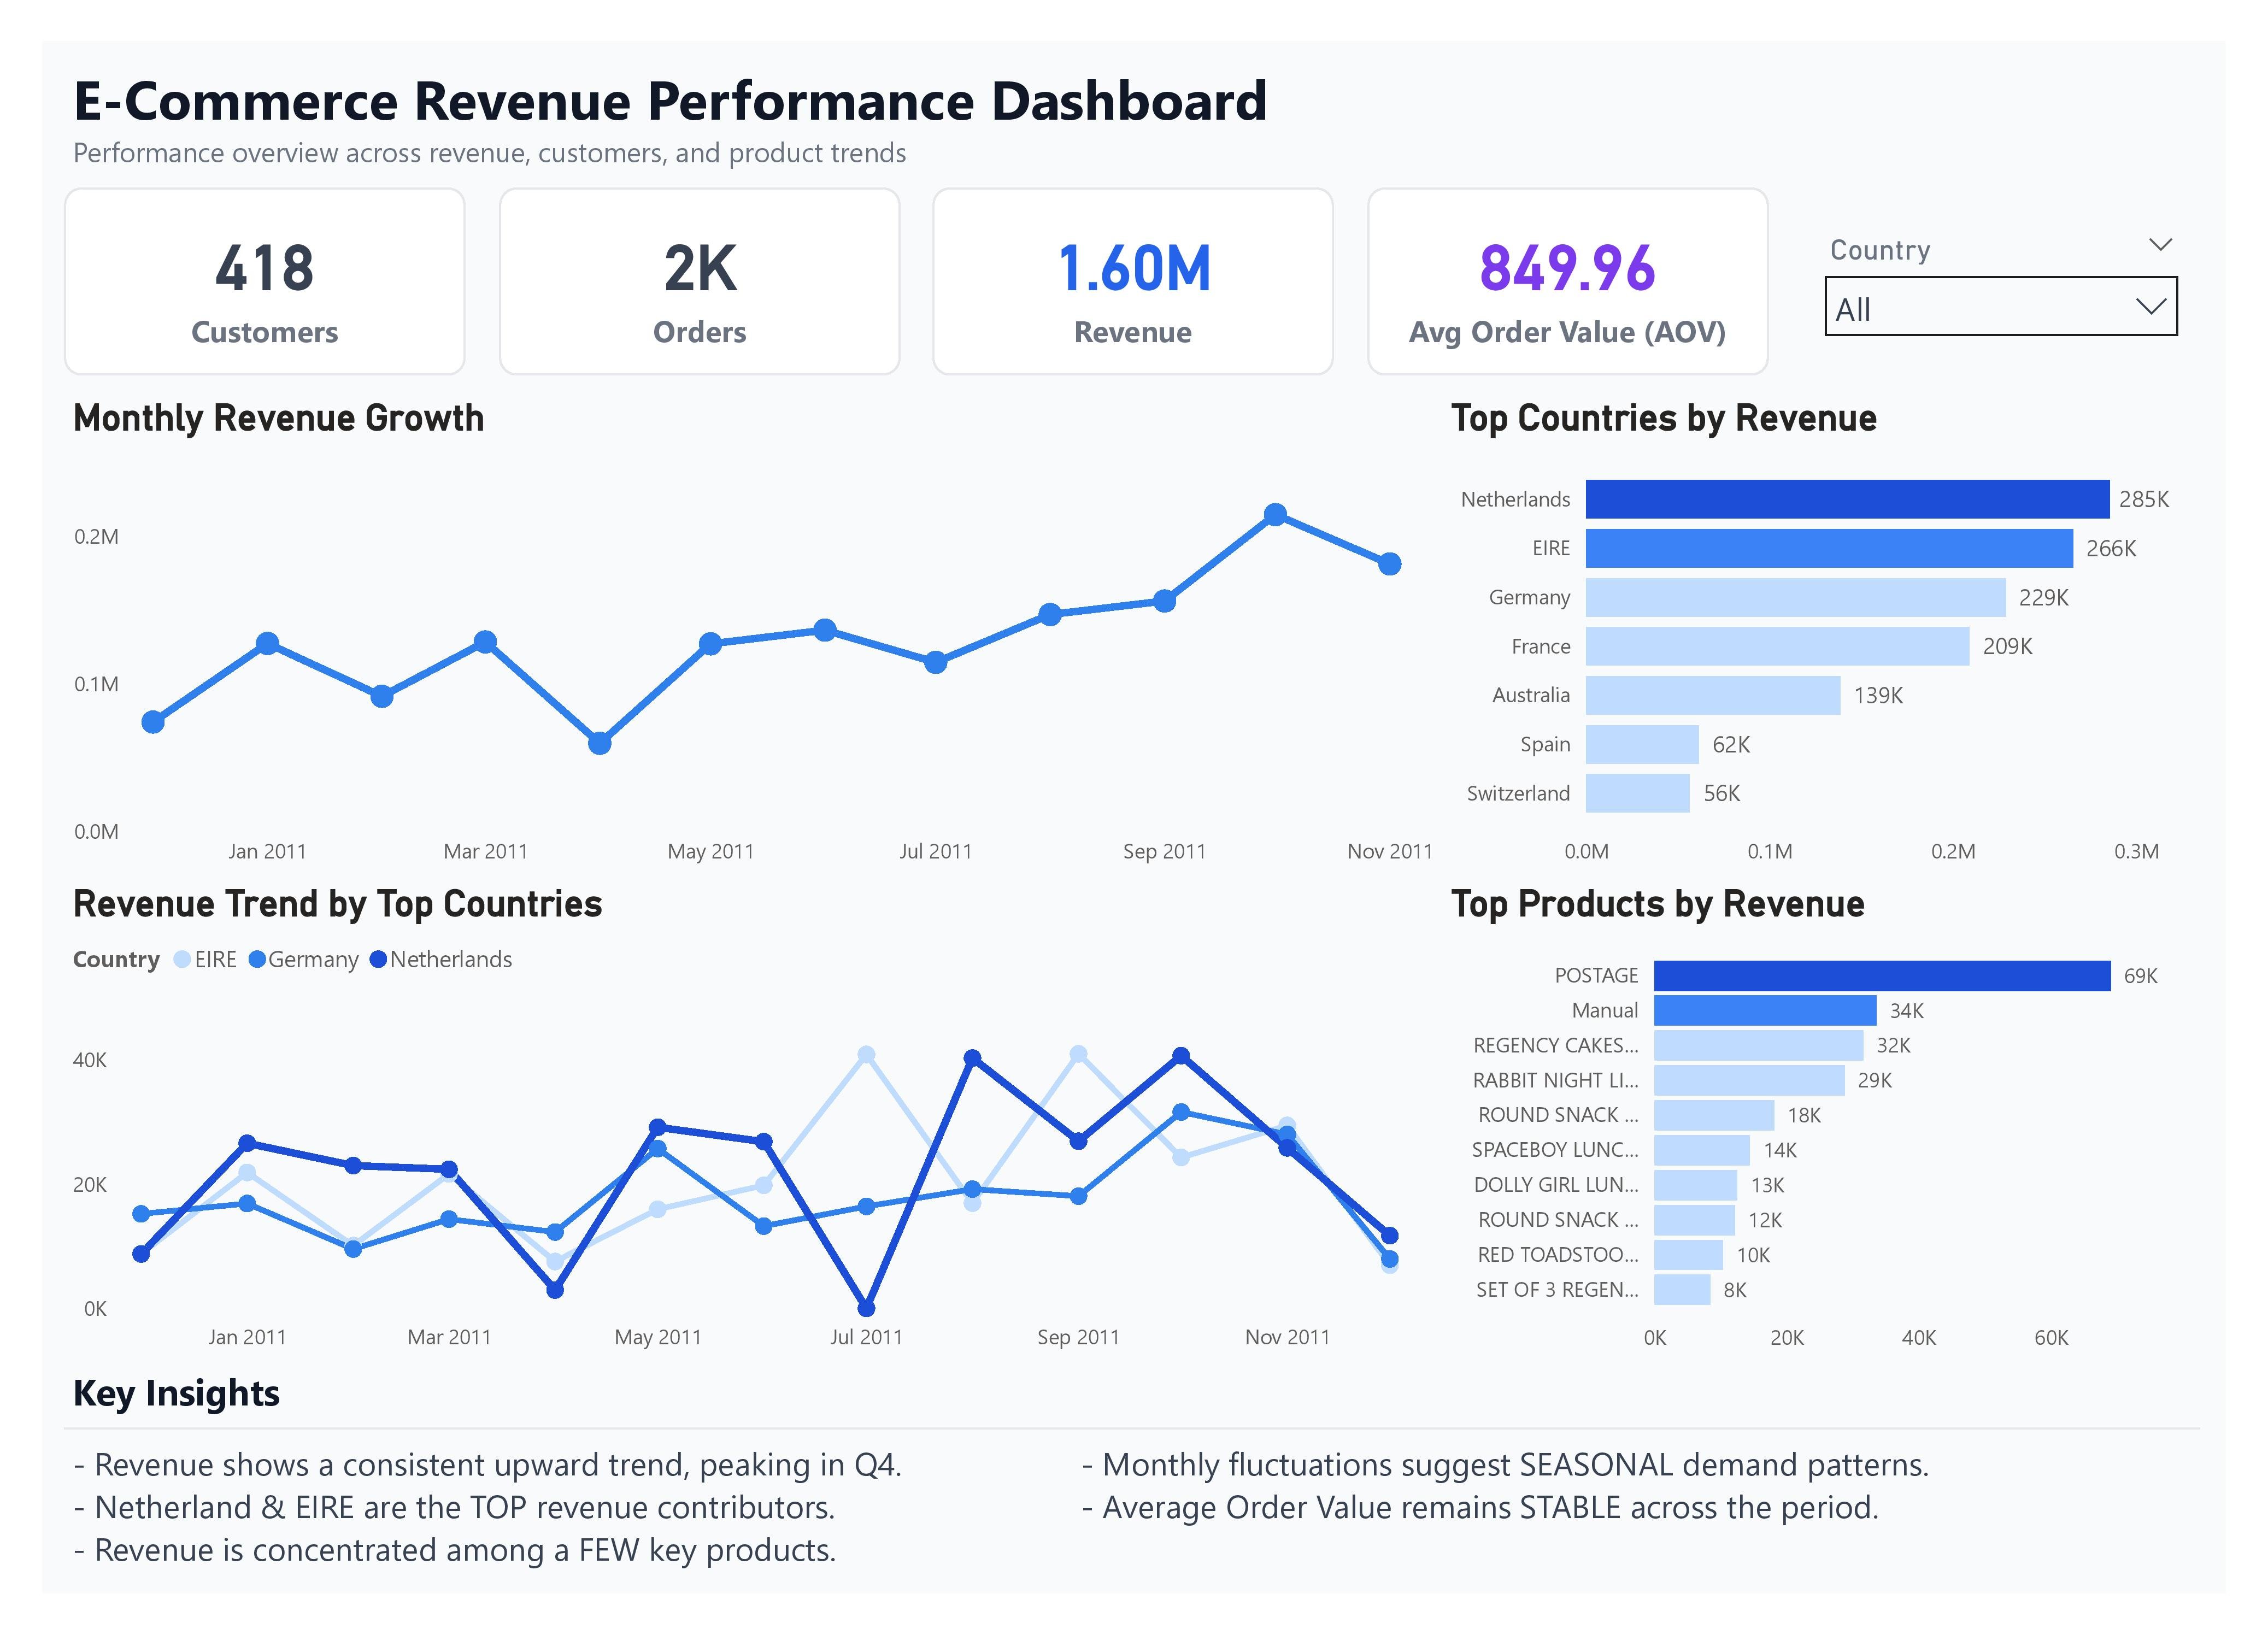

The page's visual inventory and layout, read from the dashboard file:
{"tool":"powerbi","page":{"name":"Page 1","canvas":[1280,910],"ordinal":0},"visuals":[{"type":"group","id":"g1","title":"Group 1","box":[12.5,86.2,1254.3,691.4],"z":0,"group":"g2"},{"type":"card","fields":{"Values":["Table1.Total Order"]},"box":[267.1,86.2,235,110],"z":0,"group":"g1"},{"type":"textbox","title":"Key Insights","box":[12.5,776.8,590.5,128.6],"z":0,"group":"g3"},{"type":"textbox","title":"Key Insights","box":[603,776.8,661.9,127],"z":0,"group":"g3"},{"type":"group","id":"g2","title":"Group 2","box":[12.5,6.2,1254.3,771.4],"z":1000,"group":"g3"},{"type":"textbox","box":[12.5,6.2,1254.3,80],"z":1000,"group":"g2"},{"type":"card","fields":{"Values":["Table1.AOV"]},"box":[776.3,86.2,235,110],"z":1000,"group":"g1"},{"type":"group","id":"g3","title":"Group 3","box":[12.5,6.2,1253.8,898.8],"z":1001},{"type":"lineChart","title":"Monthly Revenue Growth","fields":{"Y":["Sum(Table1.Sales)"],"Category":["Table1.Month Start"]},"box":[12.5,207.9,808.3,285],"z":2000,"group":"g1"},{"type":"barChart","title":"Top Countries by Revenue","fields":{"Category":["Table1.Country"],"Y":["Sum(Table1.Sales)"]},"box":[820.8,207.9,445,285],"z":3000,"group":"g1"},{"type":"barChart","title":"Top Products by Revenue","fields":{"Category":["Table1.Description"],"Y":["Sum(Table1.Sales)"]},"box":[820.8,492.9,445,285],"z":4000,"group":"g1"},{"type":"lineChart","title":"Revenue Trend by Top Countries","fields":{"Category":["Table1.Month Start"],"Y":["Sum(Table1.Sales)"],"Series":["Table1.Country"]},"box":[12.5,492.9,808.3,285],"z":5000,"group":"g1"},{"type":"card","fields":{"Values":["Table1.Total Customers"]},"box":[12.5,86.2,235,110],"z":6000,"group":"g1"},{"type":"card","fields":{"Values":["Table1.Total Revenue"]},"box":[521.7,86.2,235,110],"z":7000,"group":"g1"},{"type":"slicer","title":"Country","fields":{"Values":["Table1.Country"]},"box":[1030.8,102.9,235,75],"z":8000,"group":"g1"}]}

Visuals, with their boxes on the page's 1280x910 design canvas (x1, y1, x2, y2). These are canvas units, not pixel positions in the 2268x1635 screenshot, which may show the page scaled, cropped or inside an application window:
"Group 1" group: bbox=[12, 86, 1267, 778]
card - Table1.Total Order: bbox=[267, 86, 502, 196]
"Key Insights" textbox: bbox=[12, 777, 603, 905]
"Key Insights" textbox: bbox=[603, 777, 1265, 904]
"Group 2" group: bbox=[12, 6, 1267, 778]
textbox: bbox=[12, 6, 1267, 86]
card - Table1.AOV: bbox=[776, 86, 1011, 196]
"Group 3" group: bbox=[12, 6, 1266, 905]
"Monthly Revenue Growth" lineChart: bbox=[12, 208, 821, 493]
"Top Countries by Revenue" barChart: bbox=[821, 208, 1266, 493]
"Top Products by Revenue" barChart: bbox=[821, 493, 1266, 778]
"Revenue Trend by Top Countries" lineChart: bbox=[12, 493, 821, 778]
card - Table1.Total Customers: bbox=[12, 86, 248, 196]
card - Table1.Total Revenue: bbox=[522, 86, 757, 196]
"Country" slicer: bbox=[1031, 103, 1266, 178]
